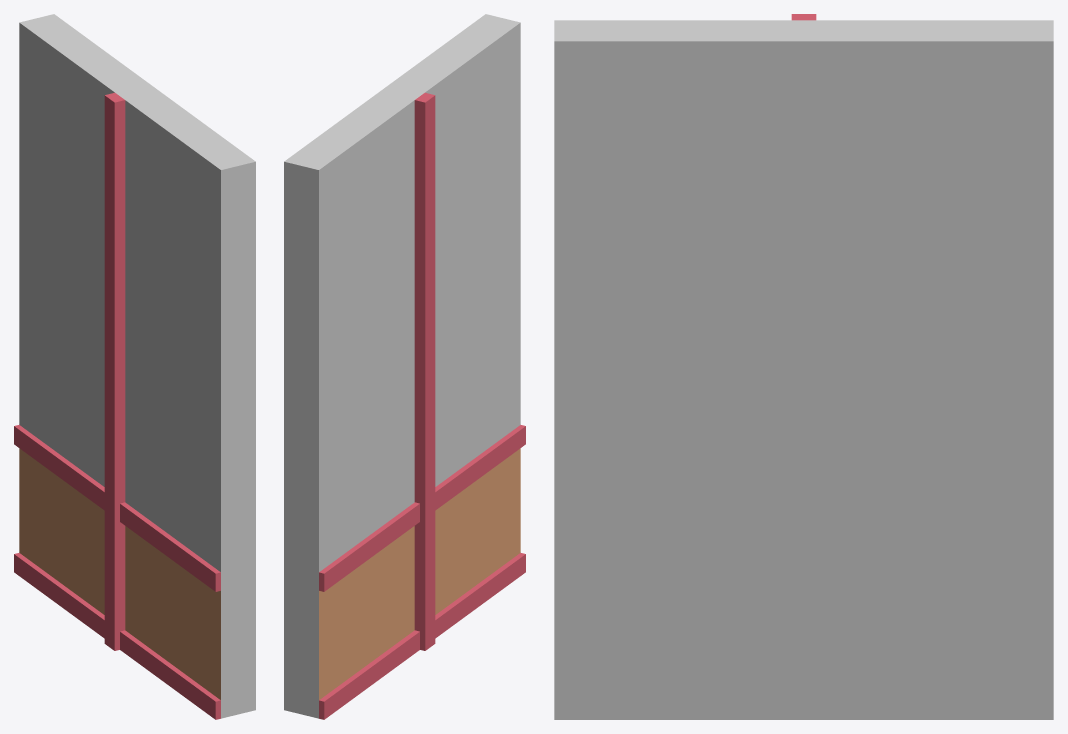
The model's file is SM_Wall_Straight.fbx.
3 renders of one model, left to right at view 1: azimuth 30°, elevation 25°; view 2: azimuth 150°, elevation 25°; view 3: azimuth 270°, elevation 25°, orthographic. The views are drawn at different scales.
Visible parts, largest first — view 1: Wall_Straight; view 2: Wall_Straight; view 3: Wall_Straight.
Boxes of the visible parts, x1,y1,x2,y2 form: Wall_Straight: (14, 14, 255, 719); Wall_Straight: (284, 14, 525, 719); Wall_Straight: (554, 14, 1053, 719).
Size of the model in its own units: 26 by 300 by 200.
